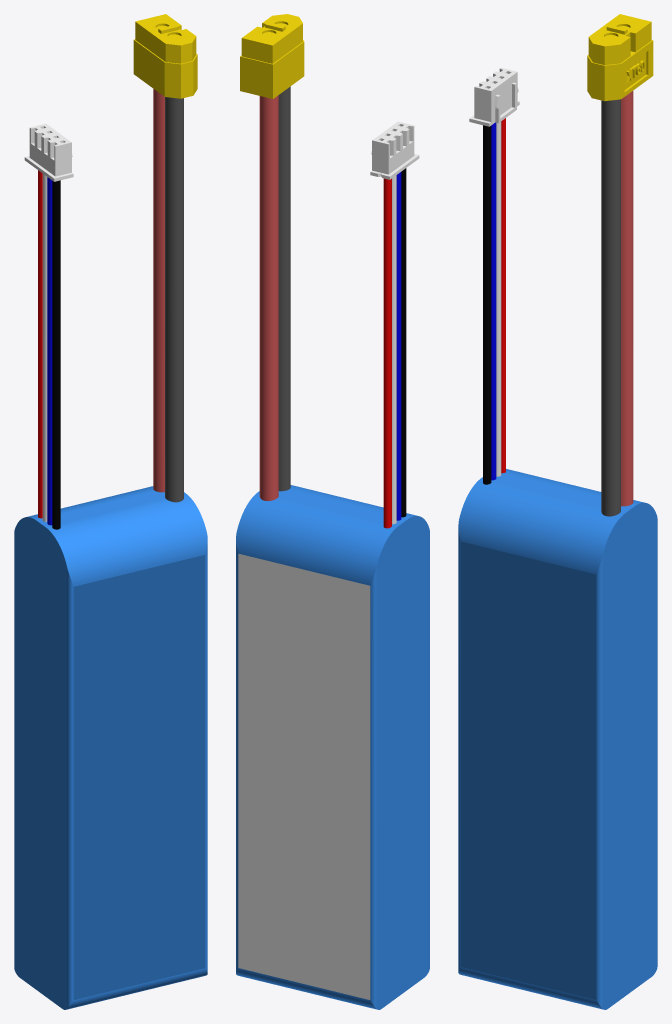
File: 3s Turnigy Li-Po battery.glb
3 renders of one model, left to right at view 1: azimuth 30°, elevation 25°; view 2: azimuth 150°, elevation 25°; view 3: azimuth 330°, elevation 25°, orthographic. The views are drawn at different scales.
Visible parts, largest first — view 1: Node9, Node4, Node7, Node5, Node1, Node2, Node6, Node3, Node8; view 2: Node2, Node4, Node5, Node7, Node1, Node8, Node6, Node3; view 3: Node9, Node4, Node7, Node5, Node1, Node2, Node6, Node3, Node8.
Boxes of the visible parts, bbox=[...] form: Node9: bbox=[73, 555, 205, 999]; Node4: bbox=[14, 486, 207, 1009]; Node7: bbox=[165, 97, 183, 502]; Node5: bbox=[153, 89, 164, 492]; Node1: bbox=[133, 14, 197, 98]; Node2: bbox=[24, 123, 73, 521]; Node6: bbox=[52, 180, 60, 529]; Node3: bbox=[47, 177, 52, 525]; Node8: bbox=[38, 170, 42, 518]; Node2: bbox=[238, 121, 419, 999]; Node4: bbox=[236, 485, 429, 1009]; Node5: bbox=[259, 95, 278, 500]; Node7: bbox=[278, 86, 290, 491]; Node1: bbox=[240, 14, 304, 98]; Node8: bbox=[383, 178, 391, 528]; Node6: bbox=[401, 168, 406, 517]; Node3: bbox=[396, 172, 401, 520]; Node9: bbox=[461, 541, 596, 999]; Node4: bbox=[458, 469, 657, 1009]; Node7: bbox=[601, 99, 620, 516]; Node5: bbox=[621, 91, 633, 506]; Node1: bbox=[587, 14, 653, 101]; Node2: bbox=[469, 67, 519, 476]; Node6: bbox=[483, 125, 491, 484]; Node3: bbox=[491, 122, 496, 480]; Node8: bbox=[501, 118, 505, 473].
Bounding box in the file's own units: 35.38 × 217 × 24.
